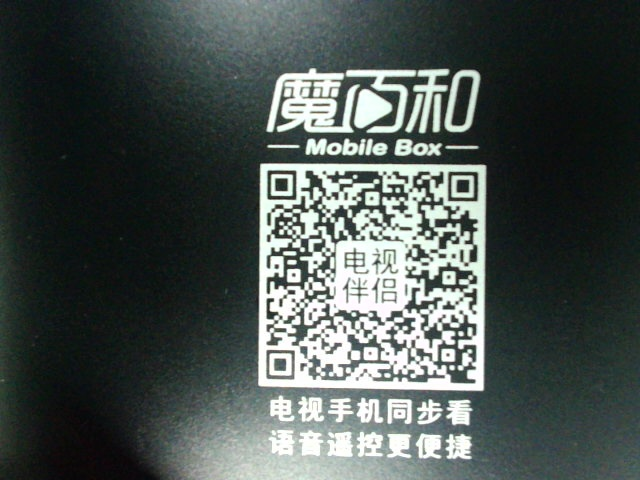AZ_MobileBox: (248, 58, 493, 461)
